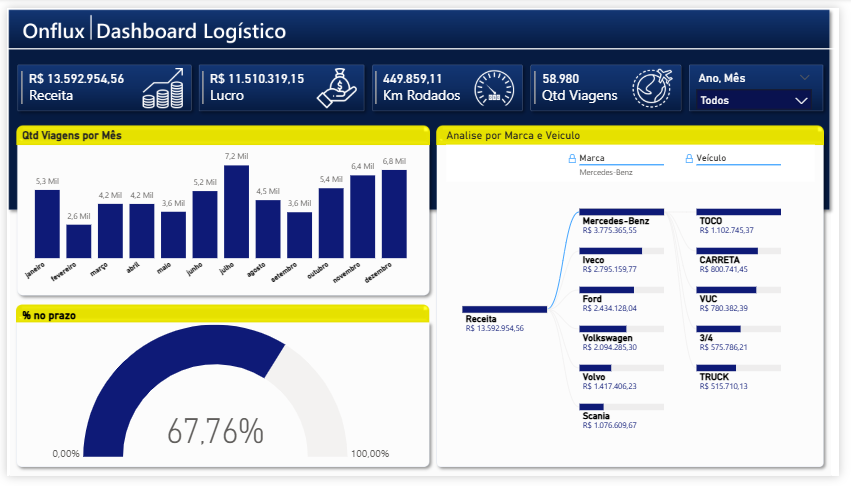

Layout of this report page (visuals, bound fields, positions):
{"tool":"powerbi","page":{"name":"Página 1","canvas":[1280,720],"ordinal":0},"visuals":[{"type":"multiRowCard","fields":{"Values":["BaseLogistica.Receita"]},"box":[16.7,91.7,237.5,63.3],"z":0},{"type":"multiRowCard","fields":{"Values":["BaseLogistica.QTD viagens"]},"box":[805.8,92.5,237.5,63.3],"z":1000},{"type":"multiRowCard","fields":{"Values":["BaseLogistica.Km Rodados"]},"box":[561.7,92.5,237.5,63.3],"z":2000},{"type":"multiRowCard","fields":{"Values":["BaseLogistica.Lucro"]},"box":[295,91.7,237.5,63.3],"z":3000},{"type":"image","box":[708.9,92.2,81.1,61.1],"z":4000},{"type":"image","box":[466.7,91.7,81.7,61.7],"z":5000},{"type":"image","box":[202,92,76,62],"z":6000},{"type":"image","box":[951.7,91.7,81.7,61.7],"z":7000},{"type":"columnChart","fields":{"Y":["BaseLogistica.Qtd Viagens"],"Category":["BaseLogistica.Data Entrega.Variation.Hierarquia de datas.Mês"]},"box":[18.6,185.7,621.4,255.7],"z":8000},{"type":"gauge","fields":{"Y":["BaseLogistica.% no prazo"]},"box":[18.6,462.9,621.4,237.1],"z":9000},{"type":"decompositionTreeVisual","title":"Analise por Marca e Veiculo","fields":{"Analyze":["BaseLogistica.Receita"],"ExplainBy":["BaseLogistica.Marca","BaseLogistica.Veículo"]},"box":[670,185.7,577.1,514.3],"z":10000},{"type":"slicer","fields":{"Values":["BaseLogistica.Data Entrega.Variation.Hierarquia de datas.Ano","BaseLogistica.Data Entrega.Variation.Hierarquia de datas.Mês"]},"box":[1050,92,197,64],"z":11000}]}

Visuals, with their boxes in screenshot pixels (x1, y1, x2, y2), scaled from the page's 1280x720 canvas onto the 851x486 screenshot:
multiRowCard - BaseLogistica.Receita: detection(11, 62, 169, 105)
multiRowCard - BaseLogistica.QTD viagens: detection(536, 62, 694, 105)
multiRowCard - BaseLogistica.Km Rodados: detection(373, 62, 531, 105)
multiRowCard - BaseLogistica.Lucro: detection(196, 62, 354, 105)
image: detection(471, 62, 525, 103)
image: detection(310, 62, 365, 104)
image: detection(134, 62, 185, 104)
image: detection(633, 62, 687, 104)
columnChart - BaseLogistica.Qtd Viagens x BaseLogistica.Data Entrega.Variation.Hierarquia de datas.Mês: detection(12, 125, 426, 298)
gauge - BaseLogistica.% no prazo: detection(12, 312, 426, 473)
"Analise por Marca e Veiculo" decompositionTreeVisual: detection(445, 125, 829, 473)
slicer - BaseLogistica.Data Entrega.Variation.Hierarquia de datas.Ano x BaseLogistica.Data Entrega.Variation.Hierarquia de datas.Mês: detection(698, 62, 829, 105)
